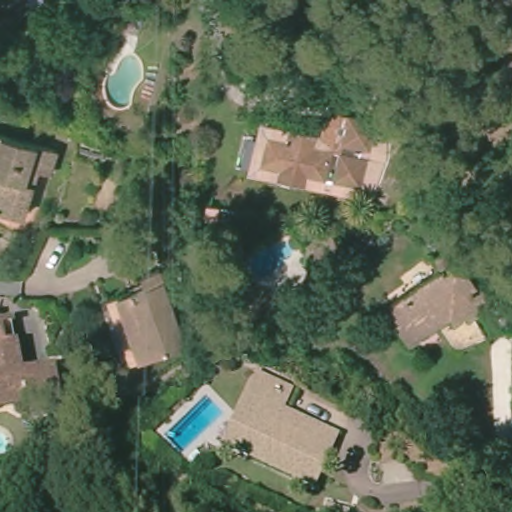pool: (166, 396, 226, 449), (105, 54, 147, 112), (1, 431, 9, 455)
